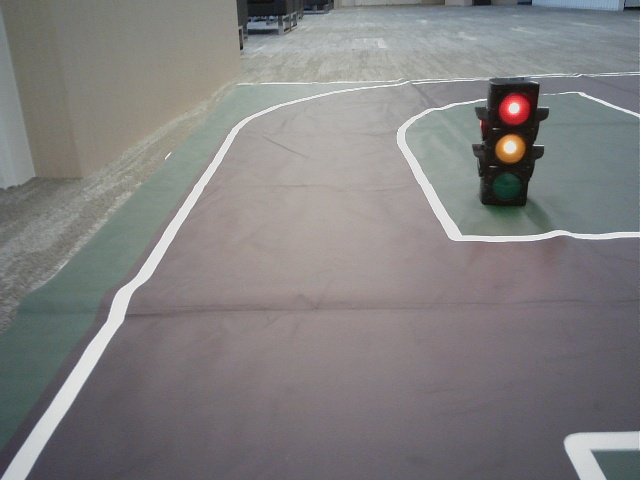red: (486, 87, 529, 203)
